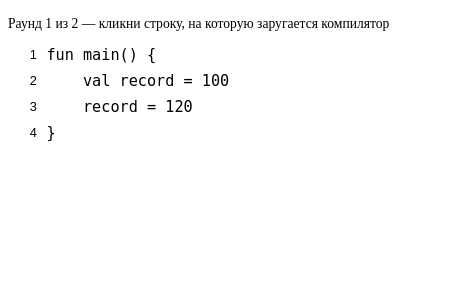
Test: correct click shows the exact compiler message and unlocks next round
Click the text "record = 120" at (120, 107), box [46,98,193,116]
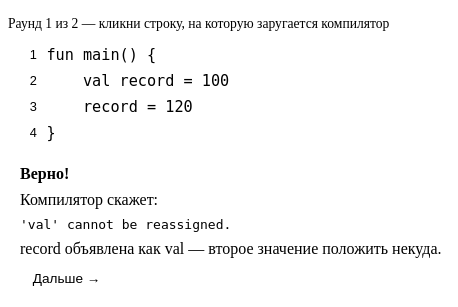
expect the text "Верно!" is shown: met, box [20,165,69,182]
expect the text "'val' cannot be reassigned." is shown: met, box [20,217,231,232]
Click the button "Дальше →" at (67, 278), box [20,266,113,290]
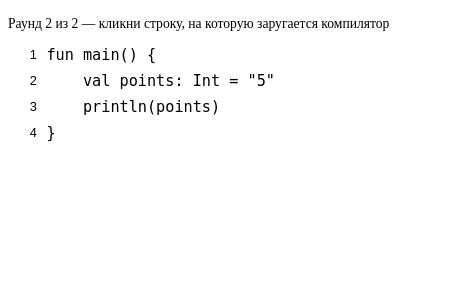
expect the text "Раунд 2 из 2" is shown: met, box [8,16,389,31]
